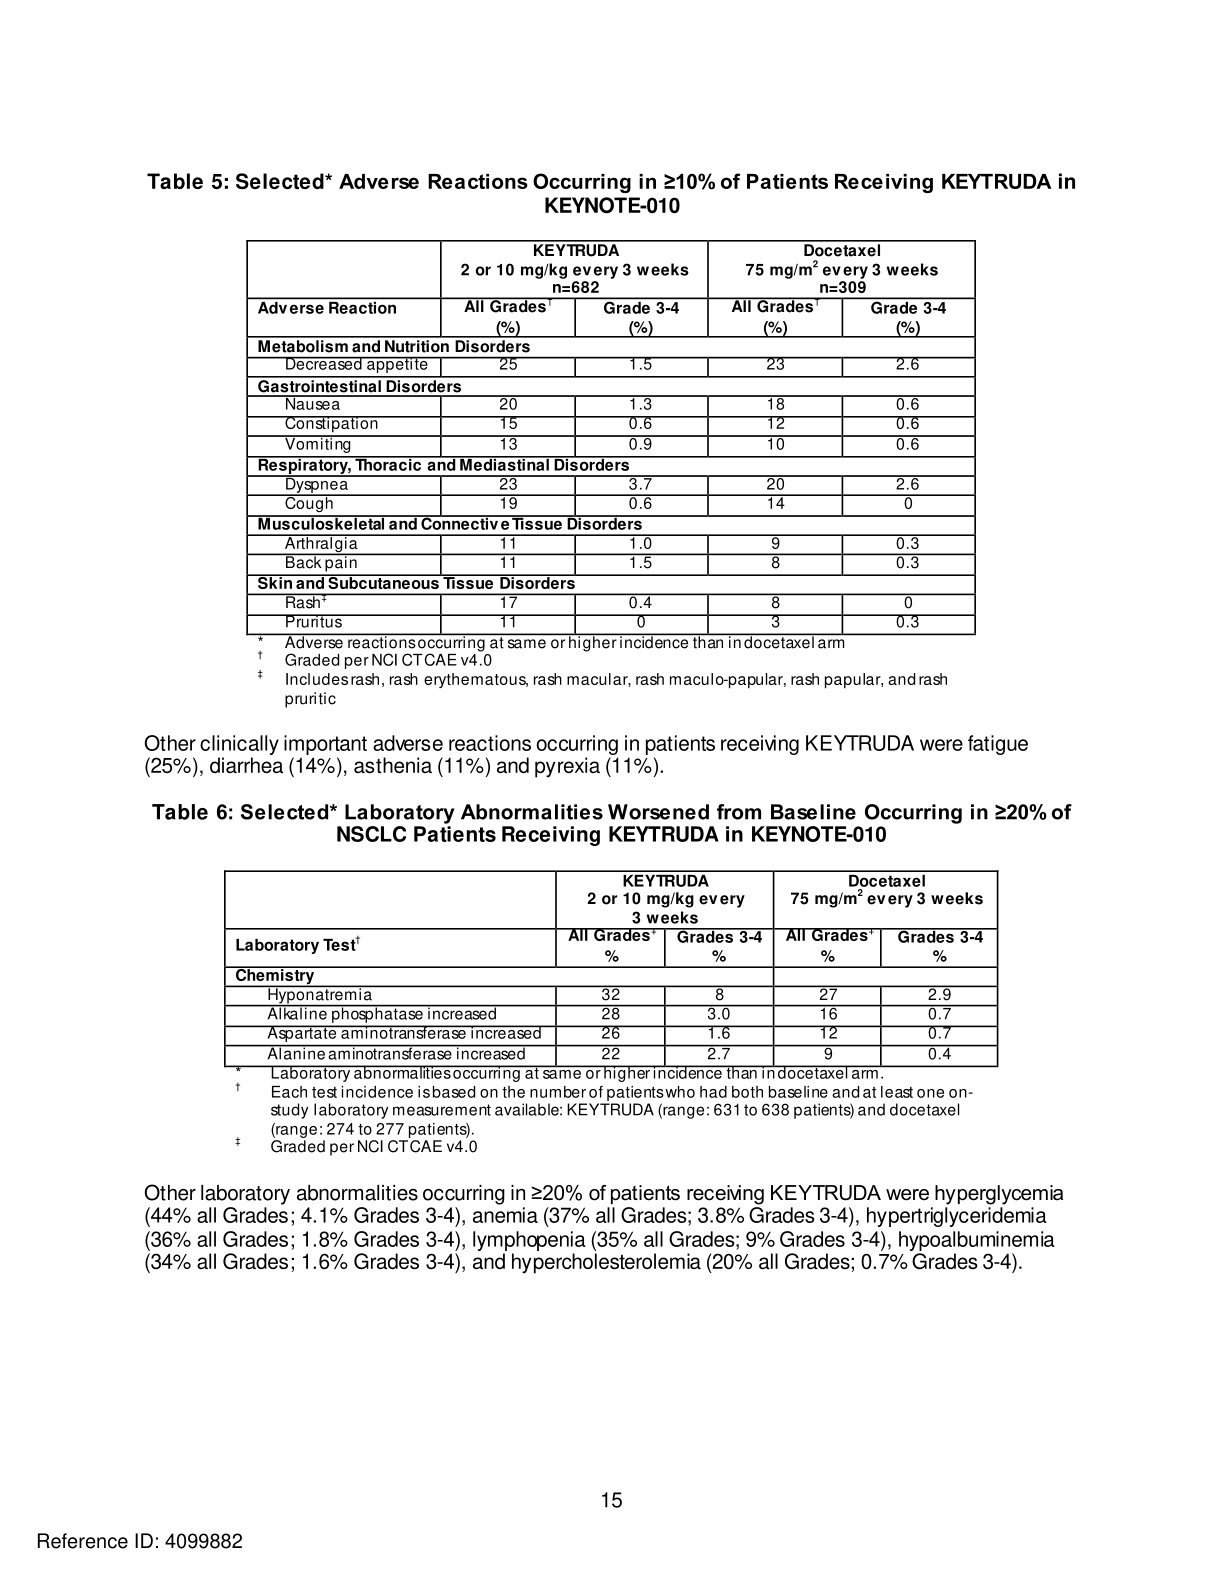merged_cells: (246, 239, 977, 635), (222, 869, 1000, 1068)
